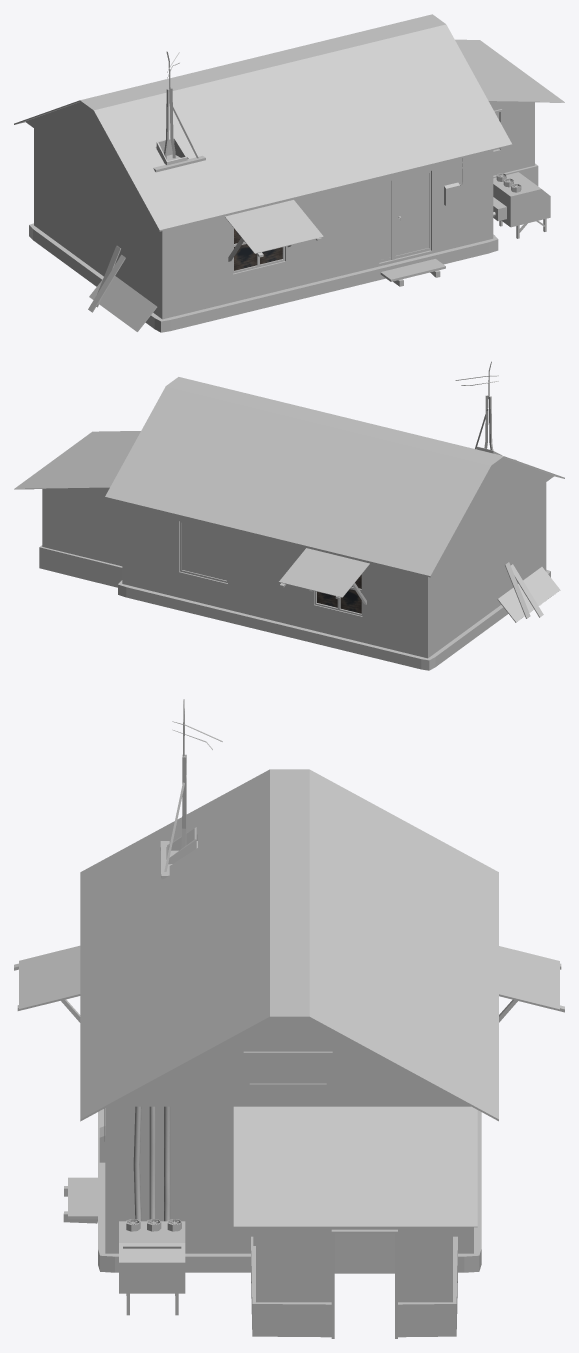
The model's file is House.fbx.
3 renders of one model, top to bottom at view 1: azimuth 30°, elevation 25°; view 2: azimuth 150°, elevation 25°; view 3: azimuth 270°, elevation 25°, orthographic. The views are drawn at different scales.
Visible parts, largest first — view 1: Cube.001, Cube, Cube.015, Cube.026, Cube.007, Cube.024, Door_Size, Cube.019, Cube.021, Cube.011, Cube.006, Cube.022 (+3 smaller); view 2: Cube.001, Cube, Cube.024, Cube.026, Cube.015, Cube.003, Cube.004, Cube.021, Cube.023, Cube.025, Cube.010_cell.002; view 3: Cube.001, Cube.026, Cube, Cube.024, Cube.015, Cube.019, Cube.007, Cube.003, Cylinder.001, Cube.014, Cube.006, Cube.013 (+3 smaller).
Boxes of the visible parts, x1,y1,x2,y2 form: Cube.001: (14,14,512,231); Cube: (29,128,498,332); Cube.015: (26,102,148,211); Cube.026: (455,39,564,102); Cube.007: (225,200,323,253); Cube.024: (489,101,538,185); Door_Size: (395,173,428,255); Cube.019: (493,172,550,227); Cube.021: (89,276,157,331); Cube.011: (379,171,430,262); Cube.006: (380,259,445,286); Cube.022: (153,137,205,172); Cube.001: (105,377,564,577); Cube: (118,482,550,670); Cube.024: (39,488,122,587); Cube.026: (14,431,140,489); Cube.015: (440,458,553,559); Cube.003: (279,548,369,597); Cube.004: (182,523,226,580); Cube.021: (497,567,560,622); Cube.023: (505,562,543,618); Cube.025: (455,361,498,450); Cube.010_cell.002: (340,589,361,613); Cube.001: (80,769,498,1121); Cube.026: (233,1106,477,1227); Cube: (98,1106,481,1272); Cube.024: (251,1227,457,1337); Cube.015: (108,836,470,1106); Cube.019: (119,1221,185,1293); Cube.007: (19,945,80,1009); Cube.003: (499,946,559,1009); Cylinder.001: (133,1106,170,1221); Cube.014: (249,1056,326,1083); Cube.006: (63,1177,97,1223); Cube.013: (243,1051,332,1087).
Bounding box in the file's own units: 866 × 435 × 598.
